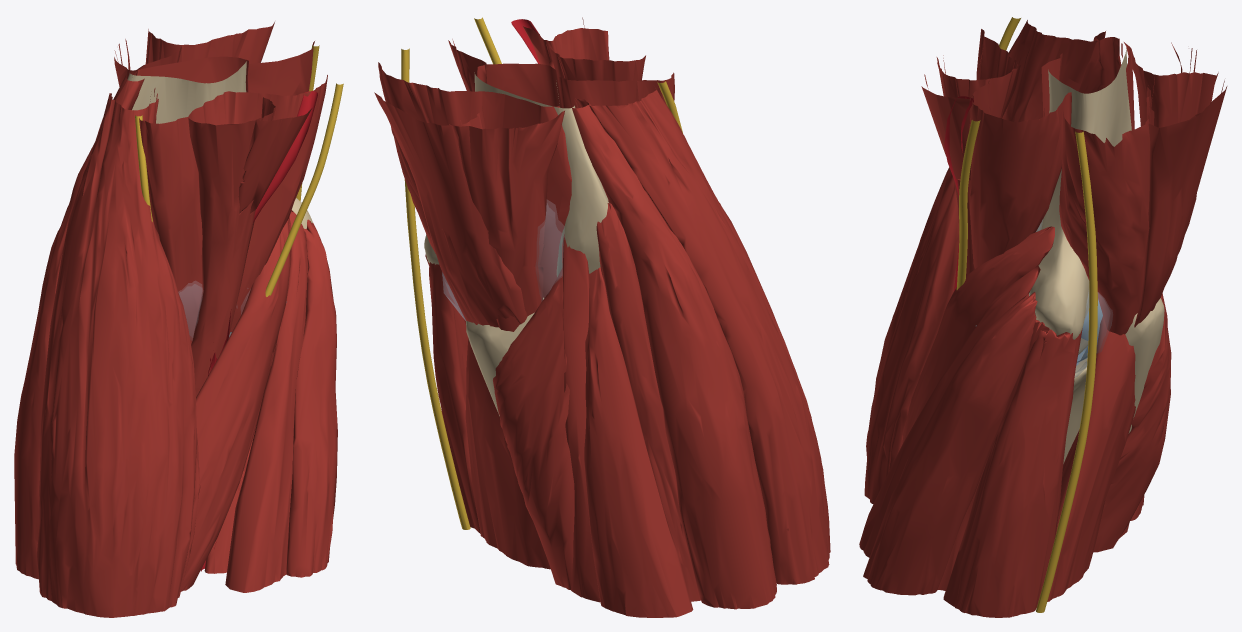
File: joint-elbow.a0fb828b.glb
3 views of the same model, side by side, from view 1: azimuth 30°, elevation 25°; view 2: azimuth 150°, elevation 25°; view 3: azimuth 270°, elevation 25° (orthographic). The views are drawn at different scales.
Parts seen in each view (by area): view 1: Muscle_BrachioradialisMuscle_Right, Muscle_BrachialisMuscle_Right, Muscle_SuperficialHeadOfPronatorTeres_Right, Muscle_FlexorCarpiRadialis_Right, Muscle_PalmarisLongusMuscle_Right, Muscle_LongHeadOfBicepsBrachii_Right, Muscle_ExtensorCarpiRadialisLongus_Right, Muscle_MedialHeadOfTricepsBrachii_Right, Muscle_ShortHeadOfBicepsBrachii_Right, Bone_Humerus_Right, Muscle_LongHeadOfTricepsBrachii_Right, Nerve_MedianNerve_Right (+5 smaller); view 2: Muscle_ExtensorCarpiRadialisLongus_Right, Muscle_BrachioradialisMuscle_Right, Muscle_ExtensorDigitorum_Right, Muscle_AnconeusMuscle_Right, Muscle_LongHeadOfTricepsBrachii_Right, Muscle_LateralHeadOfTricepsBrachii_Right, Muscle_ExtensorCarpiRadialisBrevis_Right, Muscle_MedialHeadOfTricepsBrachii_Right, Muscle_UlnarHeadOfFlexorCarpiUlnaris_Right, Muscle_HumeralHeadOfExtensorCarpiUlnaris_Right, Muscle_HumeralHeadOfFlexorCarpiUlnaris_Right, Muscle_BrachialisMuscle_Right (+6 smaller); view 3: Muscle_HumeralHeadOfFlexorCarpiUlnaris_Right, Muscle_PalmarisLongusMuscle_Right, Muscle_BrachioradialisMuscle_Right, Muscle_MedialHeadOfTricepsBrachii_Right, Muscle_BrachialisMuscle_Right, Muscle_UlnarHeadOfFlexorCarpiUlnaris_Right, Muscle_LongHeadOfTricepsBrachii_Right, Bone_Humerus_Right, Muscle_SuperficialHeadOfPronatorTeres_Right, Muscle_AnconeusMuscle_Right, Nerve_UlnarNerve_Right, Muscle_FlexorCarpiRadialis_Right (+9 smaller).
Boxes of the visible parts, left/top/right/bottom form: Muscle_BrachioradialisMuscle_Right: left=37, top=82, right=200, bottom=617; Muscle_BrachialisMuscle_Right: left=139, top=75, right=327, bottom=344; Muscle_SuperficialHeadOfPronatorTeres_Right: left=181, top=216, right=291, bottom=591; Muscle_FlexorCarpiRadialis_Right: left=225, top=210, right=308, bottom=592; Muscle_PalmarisLongusMuscle_Right: left=286, top=219, right=337, bottom=577; Muscle_LongHeadOfBicepsBrachii_Right: left=188, top=102, right=275, bottom=396; Muscle_ExtensorCarpiRadialisLongus_Right: left=14, top=73, right=144, bottom=579; Muscle_MedialHeadOfTricepsBrachii_Right: left=136, top=41, right=314, bottom=95; Muscle_ShortHeadOfBicepsBrachii_Right: left=238, top=97, right=312, bottom=215; Bone_Humerus_Right: left=127, top=61, right=312, bottom=228; Muscle_LongHeadOfTricepsBrachii_Right: left=145, top=22, right=274, bottom=63; Nerve_MedianNerve_Right: left=265, top=83, right=343, bottom=296; Muscle_ExtensorCarpiRadialisLongus_Right: left=568, top=99, right=776, bottom=609; Muscle_BrachioradialisMuscle_Right: left=575, top=88, right=830, bottom=584; Muscle_ExtensorDigitorum_Right: left=584, top=267, right=693, bottom=617; Muscle_AnconeusMuscle_Right: left=493, top=268, right=574, bottom=589; Muscle_LongHeadOfTricepsBrachii_Right: left=374, top=92, right=527, bottom=327; Muscle_LateralHeadOfTricepsBrachii_Right: left=449, top=110, right=564, bottom=331; Muscle_ExtensorCarpiRadialisBrevis_Right: left=596, top=200, right=700, bottom=601; Muscle_MedialHeadOfTricepsBrachii_Right: left=378, top=62, right=571, bottom=297; Muscle_UlnarHeadOfFlexorCarpiUlnaris_Right: left=465, top=338, right=550, bottom=569; Muscle_HumeralHeadOfExtensorCarpiUlnaris_Right: left=562, top=234, right=600, bottom=602; Muscle_HumeralHeadOfFlexorCarpiUlnaris_Right: left=425, top=254, right=480, bottom=533; Muscle_BrachialisMuscle_Right: left=448, top=34, right=674, bottom=199; Muscle_HumeralHeadOfFlexorCarpiUlnaris_Right: left=943, top=328, right=1082, bottom=617; Muscle_PalmarisLongusMuscle_Right: left=863, top=292, right=1037, bottom=595; Muscle_BrachioradialisMuscle_Right: left=864, top=20, right=1105, bottom=503; Muscle_MedialHeadOfTricepsBrachii_Right: left=1059, top=43, right=1150, bottom=335; Muscle_BrachialisMuscle_Right: left=969, top=29, right=1071, bottom=268; Muscle_UlnarHeadOfFlexorCarpiUlnaris_Right: left=1047, top=316, right=1135, bottom=601; Muscle_LongHeadOfTricepsBrachii_Right: left=1134, top=76, right=1227, bottom=327; Bone_Humerus_Right: left=1029, top=47, right=1131, bottom=354; Muscle_SuperficialHeadOfPronatorTeres_Right: left=902, top=226, right=1054, bottom=443; Muscle_AnconeusMuscle_Right: left=1093, top=293, right=1171, bottom=552; Nerve_UlnarNerve_Right: left=1036, top=131, right=1097, bottom=612; Muscle_FlexorCarpiRadialis_Right: left=859, top=266, right=1040, bottom=557.
Bounding box in the file's own units: 0.0983 × 0.1255 × 0.0835.
